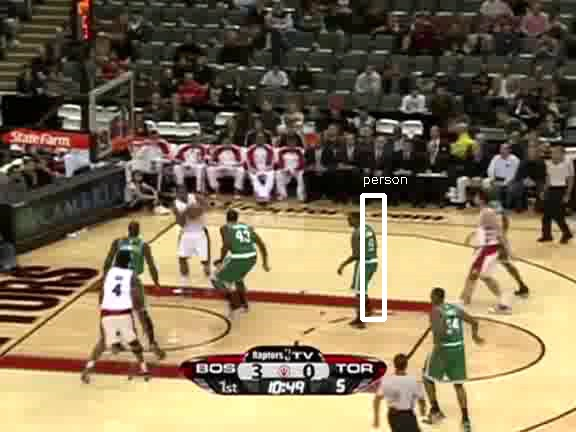person: (350, 220, 384, 301), (349, 220, 383, 301), (351, 220, 385, 301), (350, 219, 384, 300), (350, 221, 384, 302)
target_negative: (15, 78, 544, 391), (61, 141, 398, 221), (227, 292, 294, 423), (509, 145, 572, 221), (39, 216, 62, 348), (132, 21, 157, 69)
